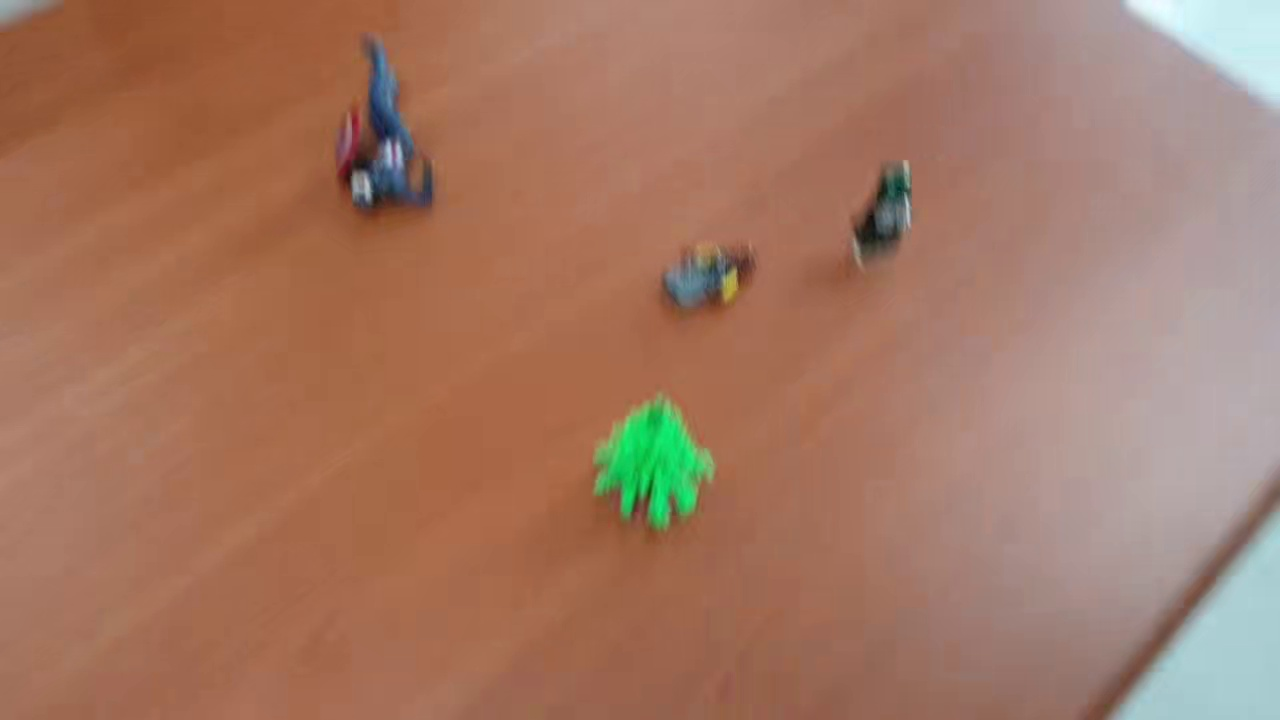people: (335, 28, 435, 218), (663, 238, 762, 312), (850, 162, 915, 274)
tree: (590, 387, 717, 536)
